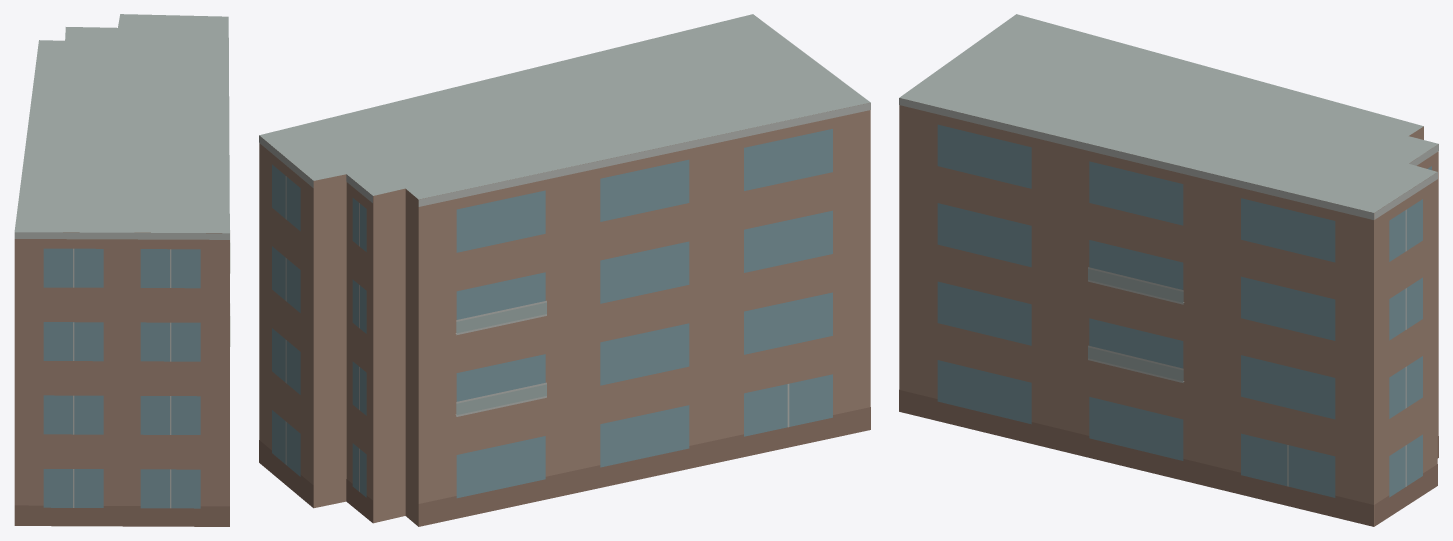
The model's file is survey-upis-32499252.glb.
3 renders of one model, left to right at view 1: azimuth 30°, elevation 25°; view 2: azimuth 150°, elevation 25°; view 3: azimuth 270°, elevation 25°, orthographic. The views are drawn at different scales.
Parts seen in each view (by area): view 1: survey-upis-32499252.tmp; view 2: survey-upis-32499252.tmp; view 3: survey-upis-32499252.tmp.
Boxes of the visible parts, x1,y1,x2,y2 form: survey-upis-32499252.tmp: (14, 14, 230, 526); survey-upis-32499252.tmp: (259, 14, 870, 526); survey-upis-32499252.tmp: (899, 14, 1438, 526).
Bounding box in the file's own units: 14.42 × 10.6 × 16.53.
